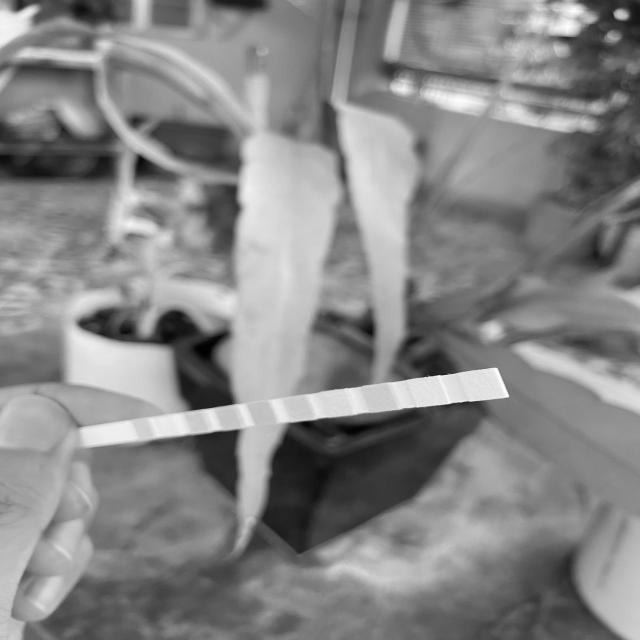Bilirubin: (162, 418, 177, 436)
Blood: (256, 404, 270, 423)
Glucose: (138, 422, 150, 438)
Ketone: (191, 413, 202, 432)
Leukocytes: (469, 371, 496, 400)
Nitrite: (417, 380, 439, 406)
Protein: (327, 393, 345, 416)
SpGravity: (222, 408, 235, 428)
Urobilinogen: (371, 387, 389, 410)
background: (0, 0, 640, 640)
pH: (290, 398, 307, 419)
strip: (78, 368, 509, 449)
